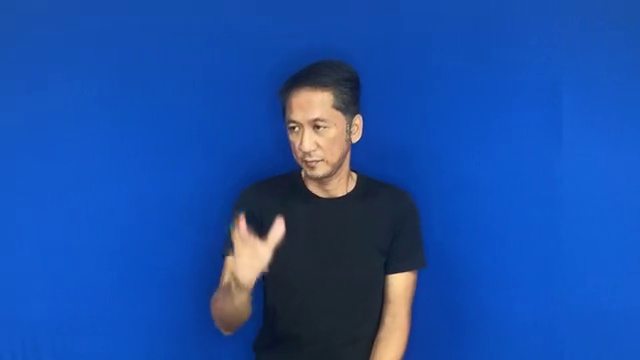chicken: (215, 200, 294, 294)
